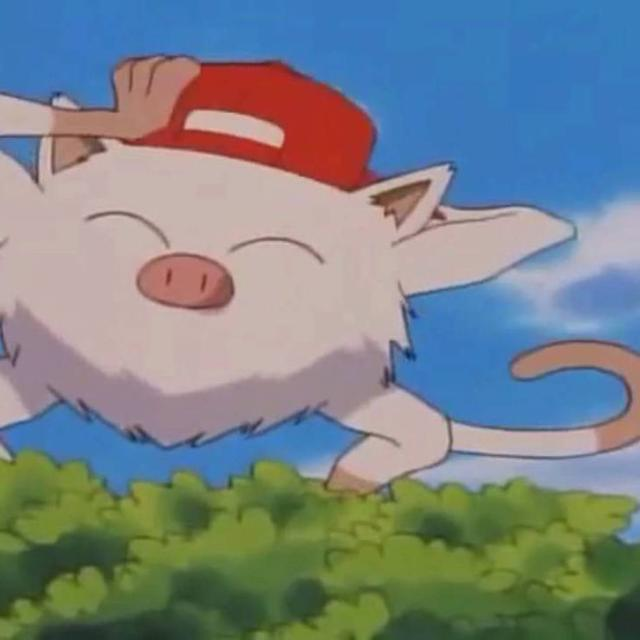Mankey: (0, 131, 451, 464)
